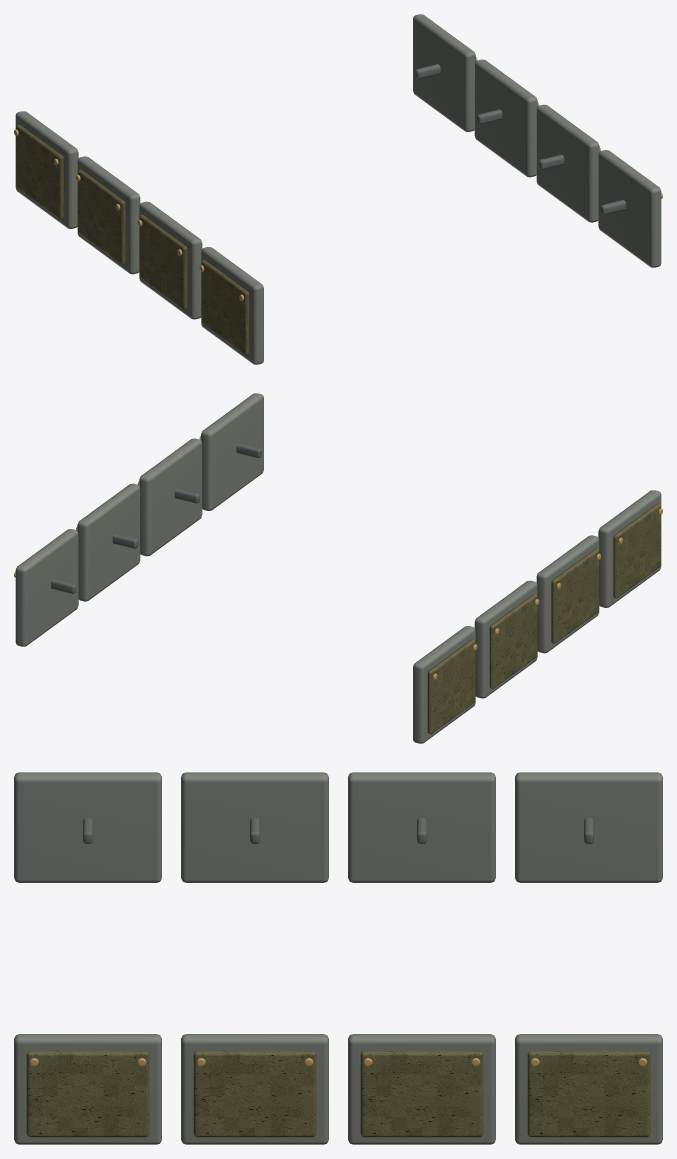
The model's file is STK-A02.fbx.
The picture shows the model from 3 angles, top to bottom: view 1: azimuth 30°, elevation 25°; view 2: azimuth 150°, elevation 25°; view 3: azimuth 270°, elevation 25°; orthographic projection. The views are drawn at different scales.
Parts seen in each view (by area): view 1: STK-A02_Edge, STK-A02_Armor, STK-A02_Steel; view 2: STK-A02_Edge, STK-A02_Armor, STK-A02_Steel; view 3: STK-A02_Edge, STK-A02_Armor, STK-A02_Steel, STK-A02_Brass.
Part boxes in pixels (box(x1,y1,x2,y2)): STK-A02_Edge: box(15, 14, 661, 364); STK-A02_Armor: box(15, 124, 249, 354); STK-A02_Steel: box(415, 64, 625, 214); STK-A02_Edge: box(15, 393, 661, 743); STK-A02_Armor: box(427, 503, 661, 733); STK-A02_Steel: box(51, 443, 261, 593); STK-A02_Edge: box(14, 772, 662, 1144); STK-A02_Armor: box(26, 1051, 650, 1137); STK-A02_Steel: box(83, 818, 593, 843); STK-A02_Brass: box(29, 1058, 647, 1066).
Bounding box in the file's own units: 488 × 88 × 482.
